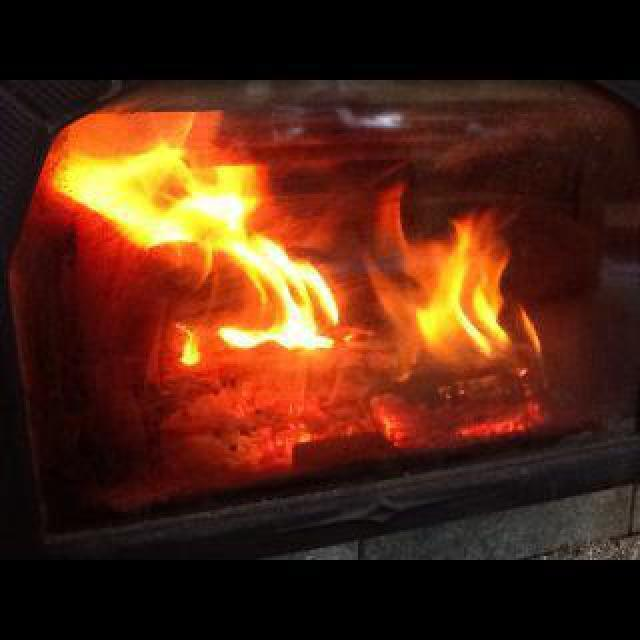Fire: (40, 112, 584, 438)
